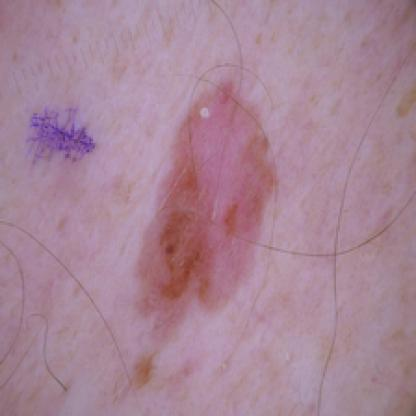benign: (145, 85, 273, 316)
